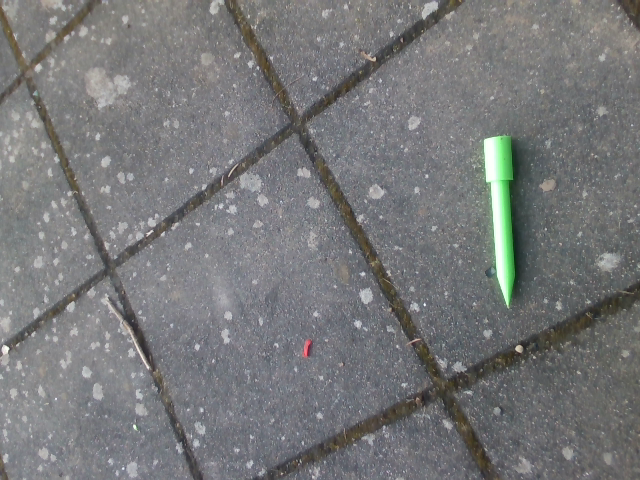Probe: (478, 131, 519, 313)
